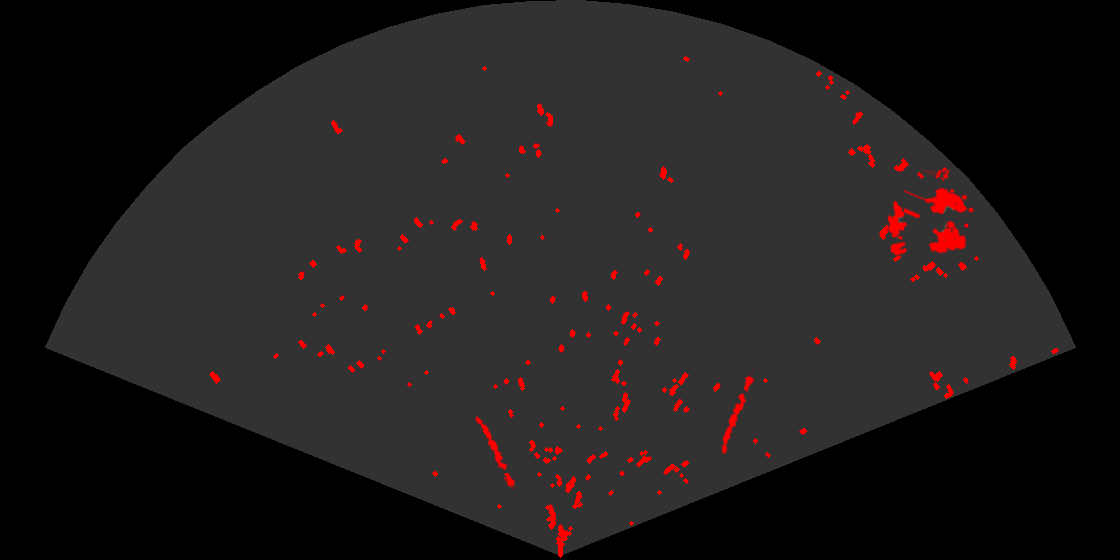AUV: (886, 199, 908, 240)
ball: (888, 234, 909, 257)
cage: (904, 170, 976, 255)
chain: (474, 415, 517, 491), (720, 368, 756, 456)
